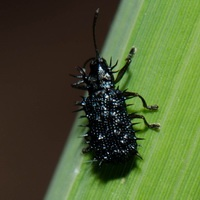insect: (71, 9, 159, 165)
